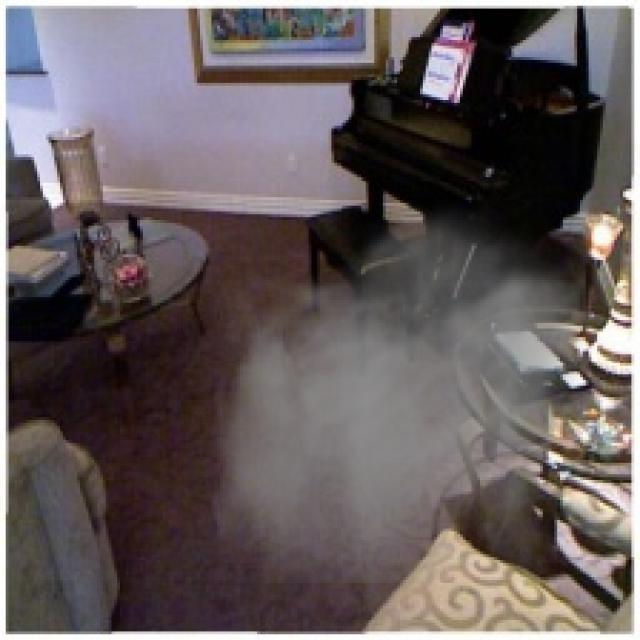Smoke: (211, 194, 586, 583)
